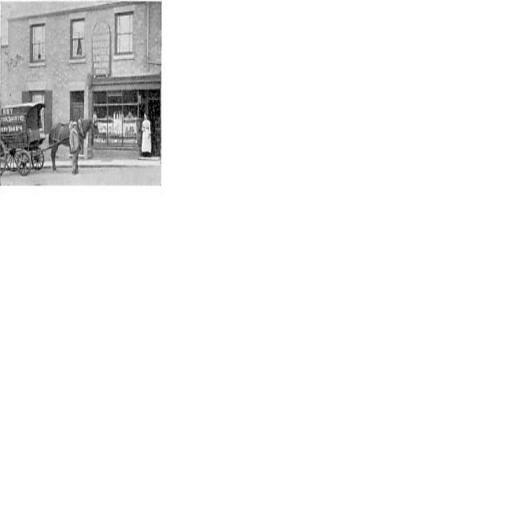horse: (48, 114, 99, 176)
